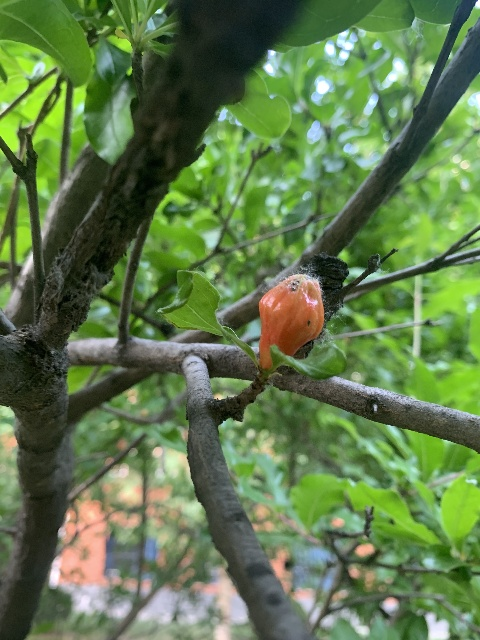bud: (256, 274, 323, 370)
